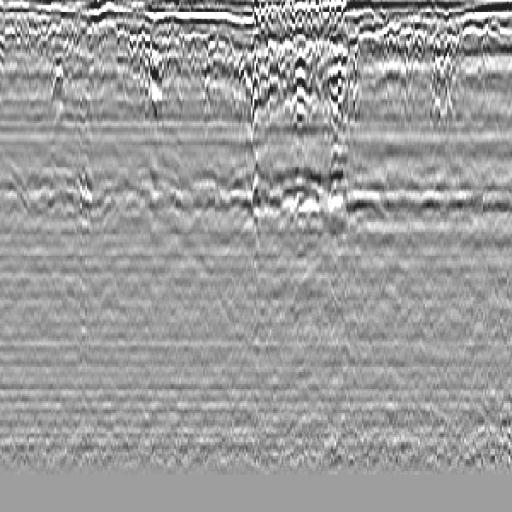non-metallic: (287, 47, 321, 148)
